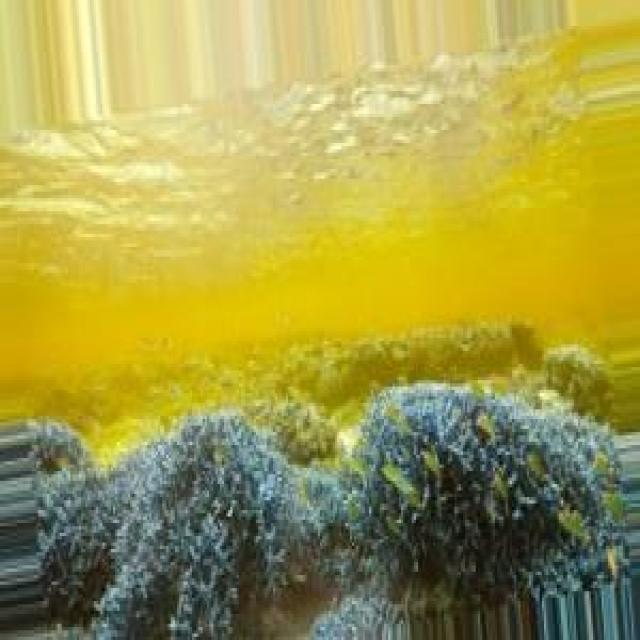Healthy: (362, 388, 611, 615), (88, 417, 300, 640)
